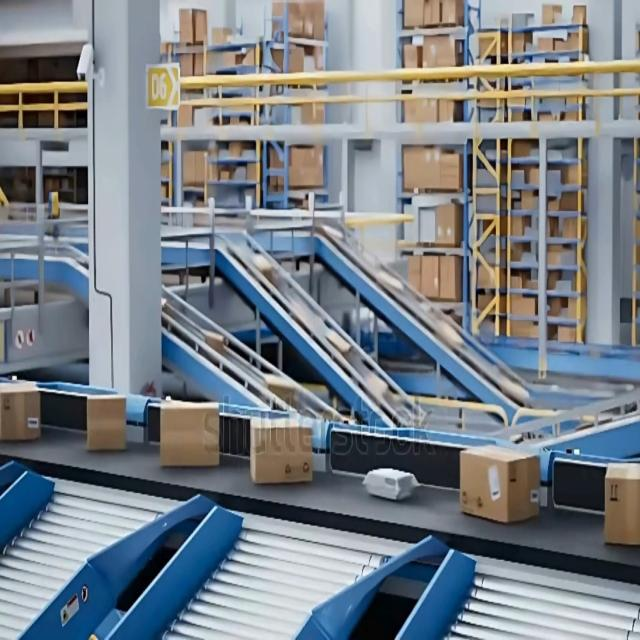product 1: (249, 416, 313, 484), (159, 400, 220, 468), (86, 394, 126, 451)
product 2: (362, 466, 419, 501)
